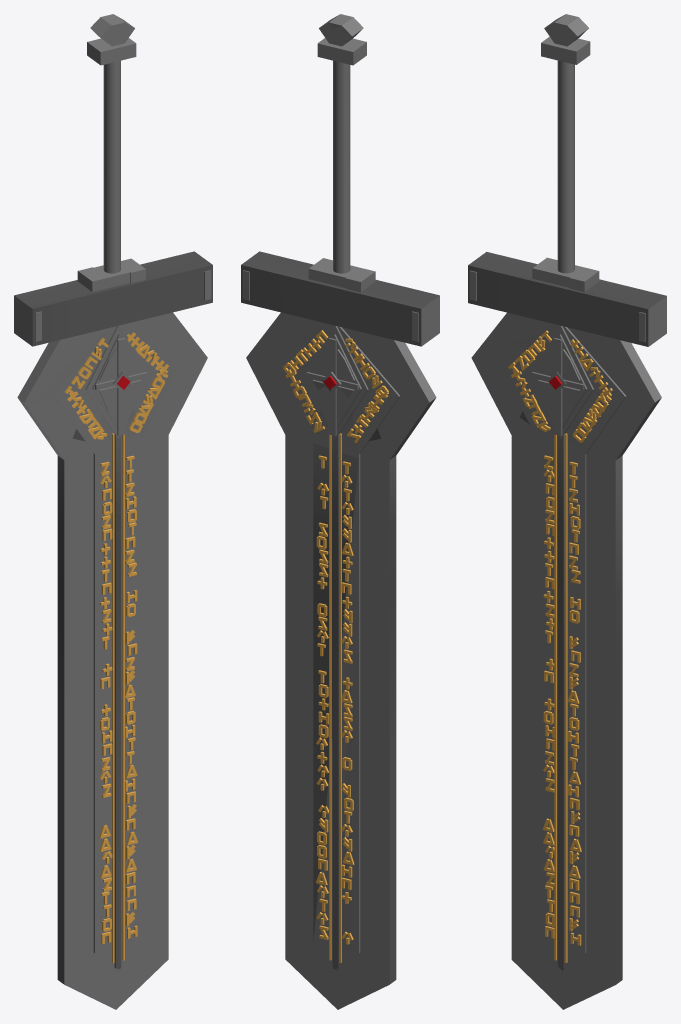
Rendered from EspadaUGC.fbx.
3 views of the same model, side by side, from view 1: azimuth 30°, elevation 25°; view 2: azimuth 150°, elevation 25°; view 3: azimuth 330°, elevation 25° (orthographic).
Parts seen in each view (by area): view 1: Espada+bake; view 2: Espada+bake; view 3: Espada+bake.
Boxes of the visible parts, x1,y1,x2,y2 form: Espada+bake: (14,14,212,1009); Espada+bake: (241,14,439,1009); Espada+bake: (468,14,666,1009).
Size of the model in its own units: 77.77 by 400 by 16.98.
Materials: 13 (11 with a texture image).
